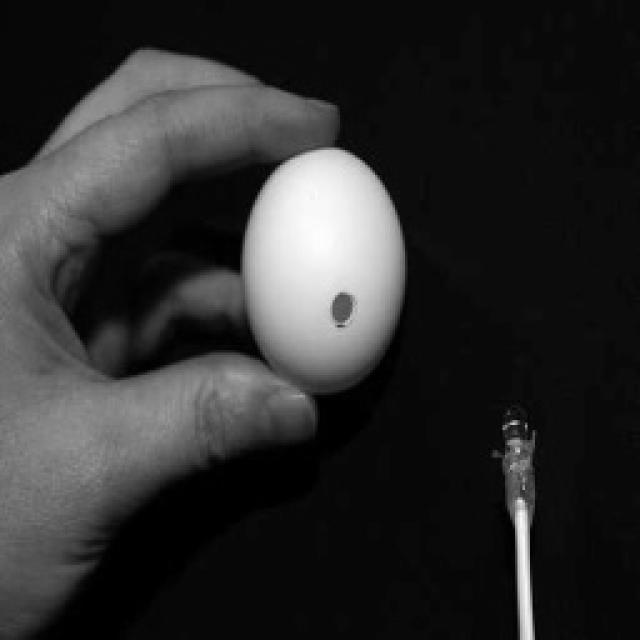ping-pong-ball: (245, 149, 402, 393)
